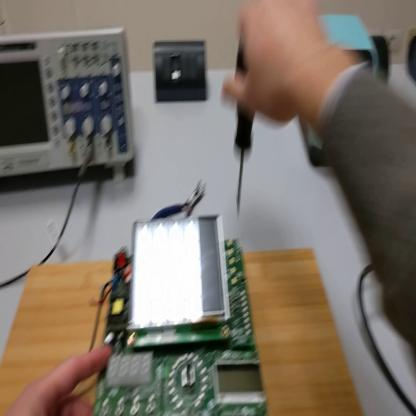hand: (224, 2, 320, 132), (6, 340, 114, 416)
low voltage board: (84, 218, 264, 416)
oscilloscope: (3, 28, 136, 185)
pliers: (173, 181, 208, 219)
screwdriver-: (231, 28, 253, 214)
socket: (369, 36, 390, 85), (408, 37, 416, 86)
welder station: (301, 14, 380, 168)
working area: (1, 250, 365, 416)
